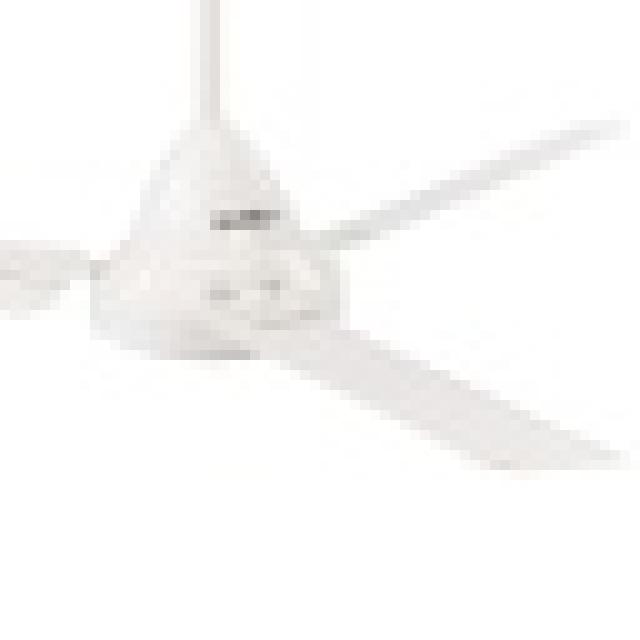Bulb: (23, 103, 640, 490)
